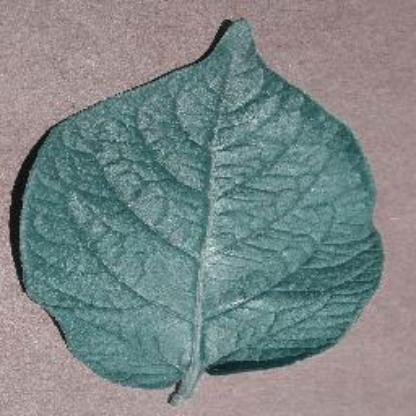Healthy-plant: (14, 20, 398, 392)
